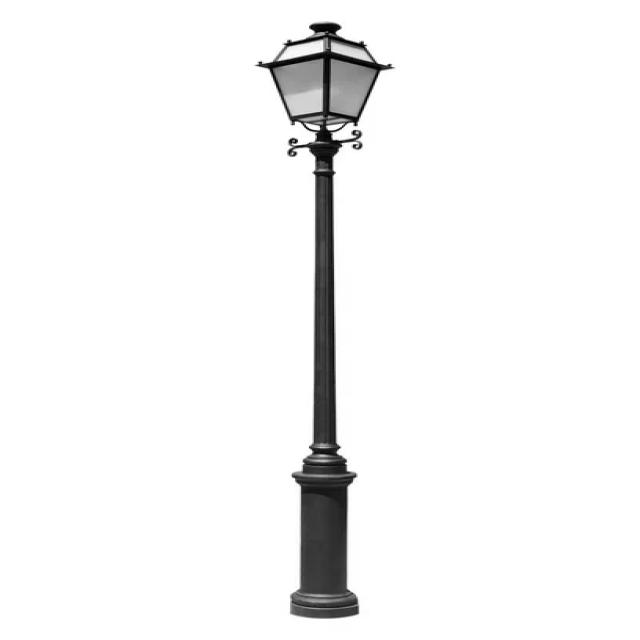Pole: (259, 21, 392, 620)
